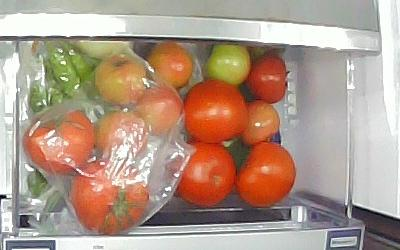tomato: (168, 142, 238, 208), (182, 80, 249, 143), (238, 142, 295, 207), (248, 53, 289, 103), (203, 44, 250, 84), (240, 100, 279, 145)
tomato_vinyl: (69, 162, 152, 236), (24, 106, 97, 173), (94, 53, 147, 103), (96, 110, 149, 159), (135, 88, 182, 137), (147, 42, 193, 87)
